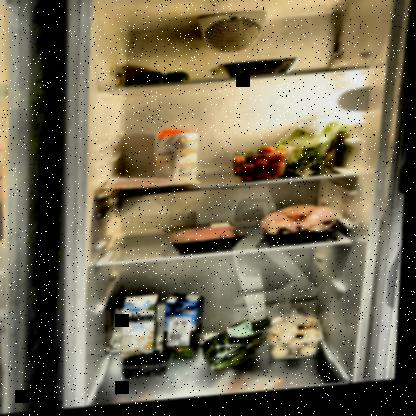blueberries: (124, 351, 174, 382)
chicken: (260, 205, 348, 252)
green_beans: (202, 318, 280, 376)
ground_beef: (170, 224, 243, 253)
lime: (124, 72, 191, 91)
milk: (166, 293, 209, 368), (123, 296, 165, 362)
mushrooms: (266, 312, 326, 366)
spinach: (274, 120, 354, 185)
strawberries: (230, 145, 294, 189)
